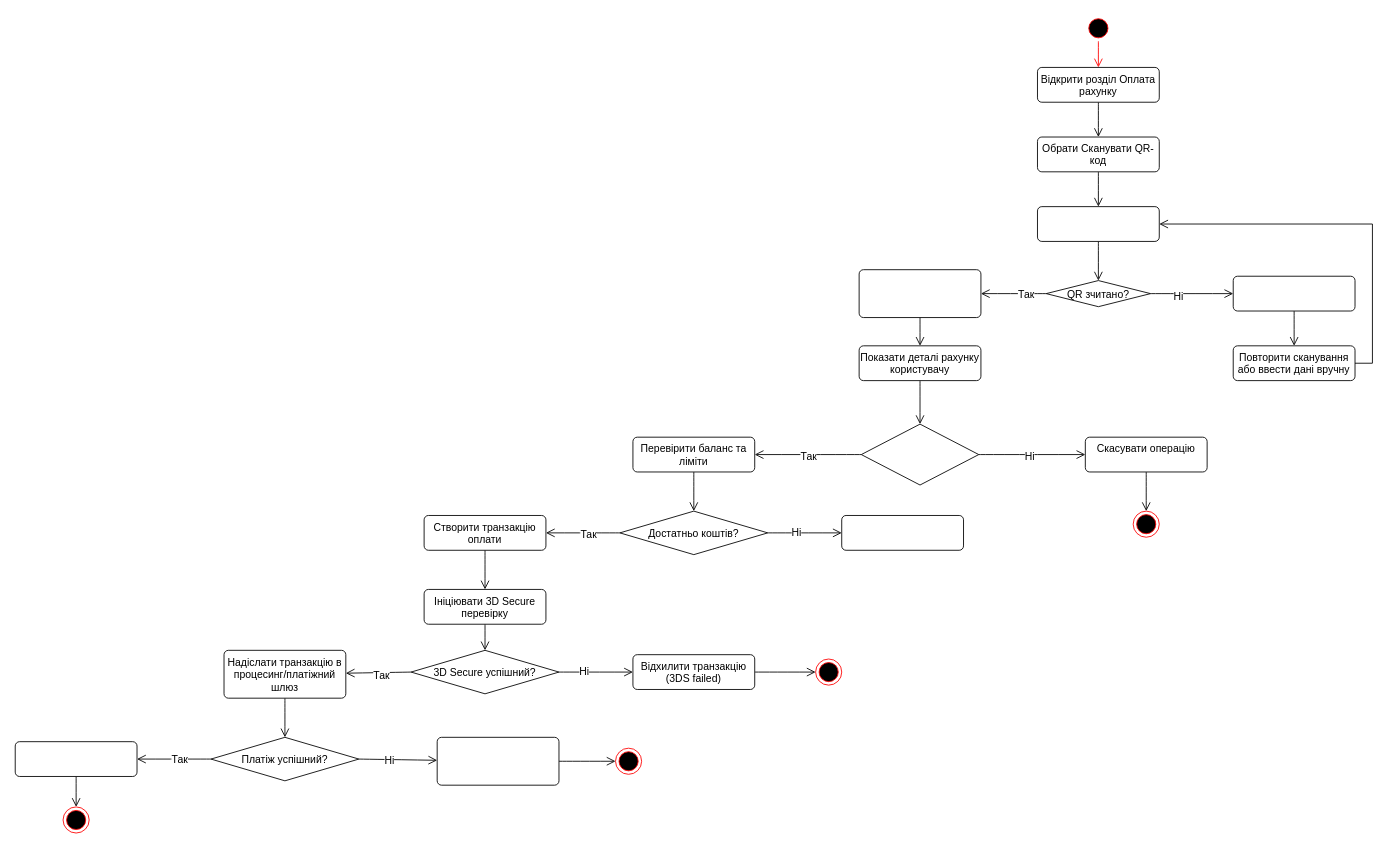
Image size: 1396x848. Some labels were removed from this diagram. The centre of each missing label's shape, as x and y in pixels:
"Зберегти відмову, показати 'Помилка оплати" belongs at point (497, 760).
"Зберегти транзакцію, показати 'Оплачено'" belongs at point (75, 758).
"Користувач підтверджує оплату?" belongs at point (919, 454).
"Повідомити: недостатньо коштів" belongs at point (902, 532).
"Показати помилку: QR не зчитано" belongs at point (1293, 293).
"Розпарсити дані з QR (IBAN/сума/призначення)" belongs at point (919, 293).
"Сканування QR-коду камерою" belongs at point (1098, 223).
